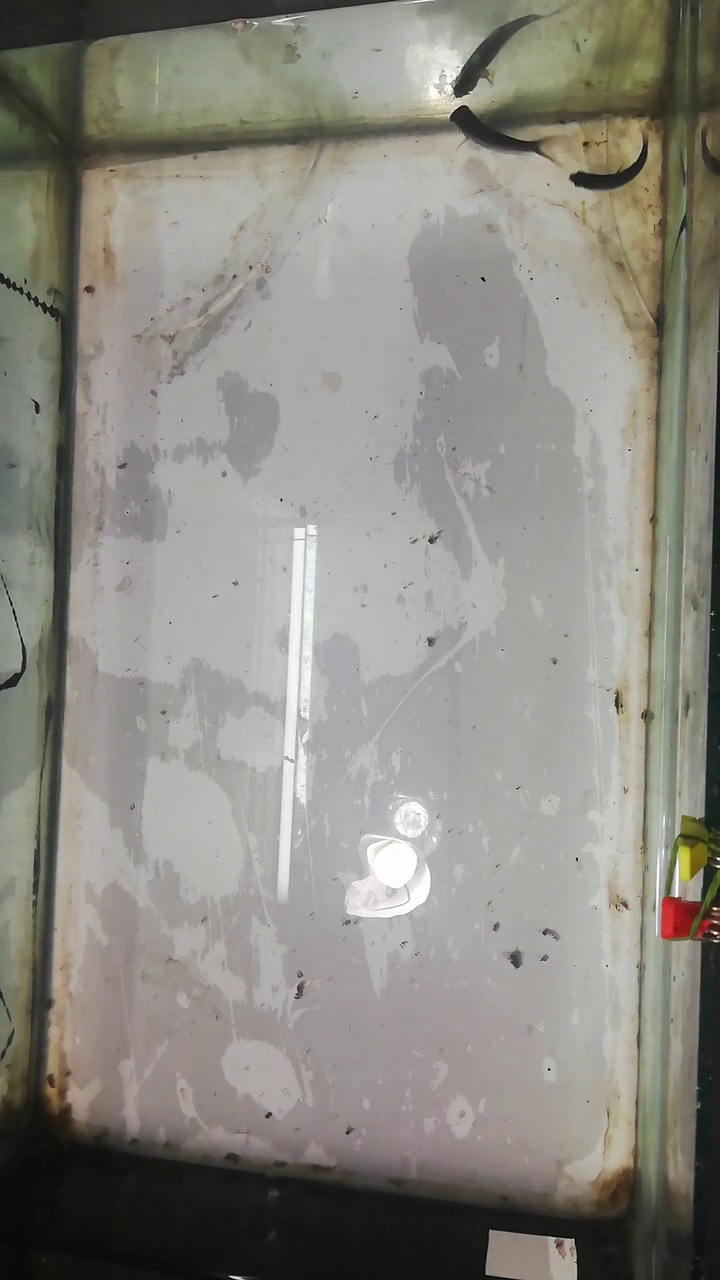fish1: (444, 102, 558, 163)
fish2: (568, 143, 651, 193)
